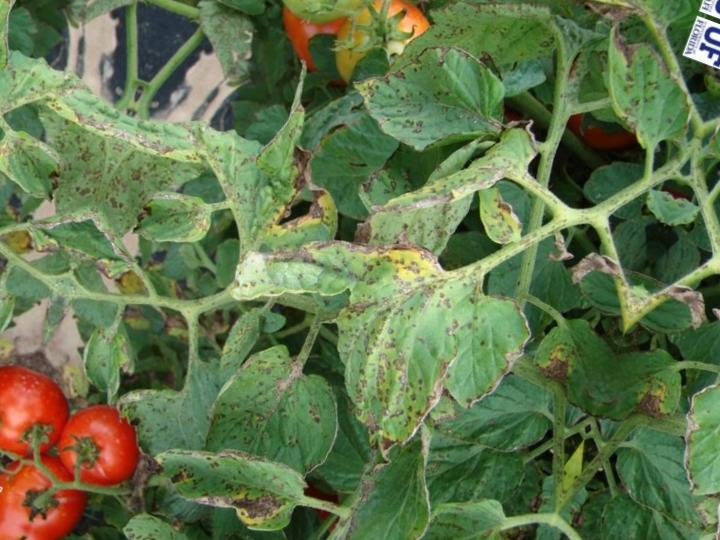Tomato leaf bacterial spot: (209, 162, 564, 474), (108, 81, 328, 254), (184, 315, 371, 517), (328, 16, 537, 189), (134, 403, 326, 540), (301, 408, 462, 540), (124, 169, 221, 259)
